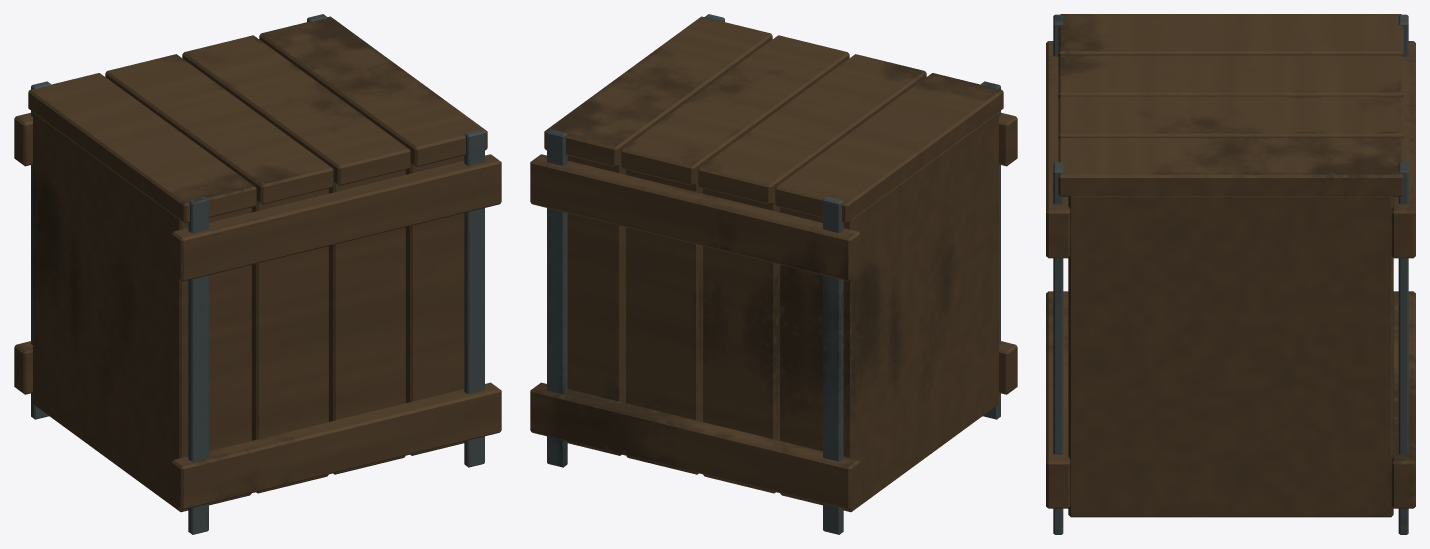
Rendered from wood_crate.glb.
3 renders of one model, left to right at view 1: azimuth 30°, elevation 25°; view 2: azimuth 150°, elevation 25°; view 3: azimuth 270°, elevation 25°, orthographic. The views are drawn at different scales.
Parts seen in each view (by area): view 1: wood_crate; view 2: wood_crate; view 3: wood_crate.
Boxes of the visible parts, box(x1,y1,x2,y2) form: wood_crate: box(14, 14, 501, 534); wood_crate: box(530, 14, 1017, 534); wood_crate: box(1046, 14, 1415, 534).
Size of what is drawn, in the model's own units: 1 by 0.99 by 0.91.
Materials: 1 (1 with a texture image).
